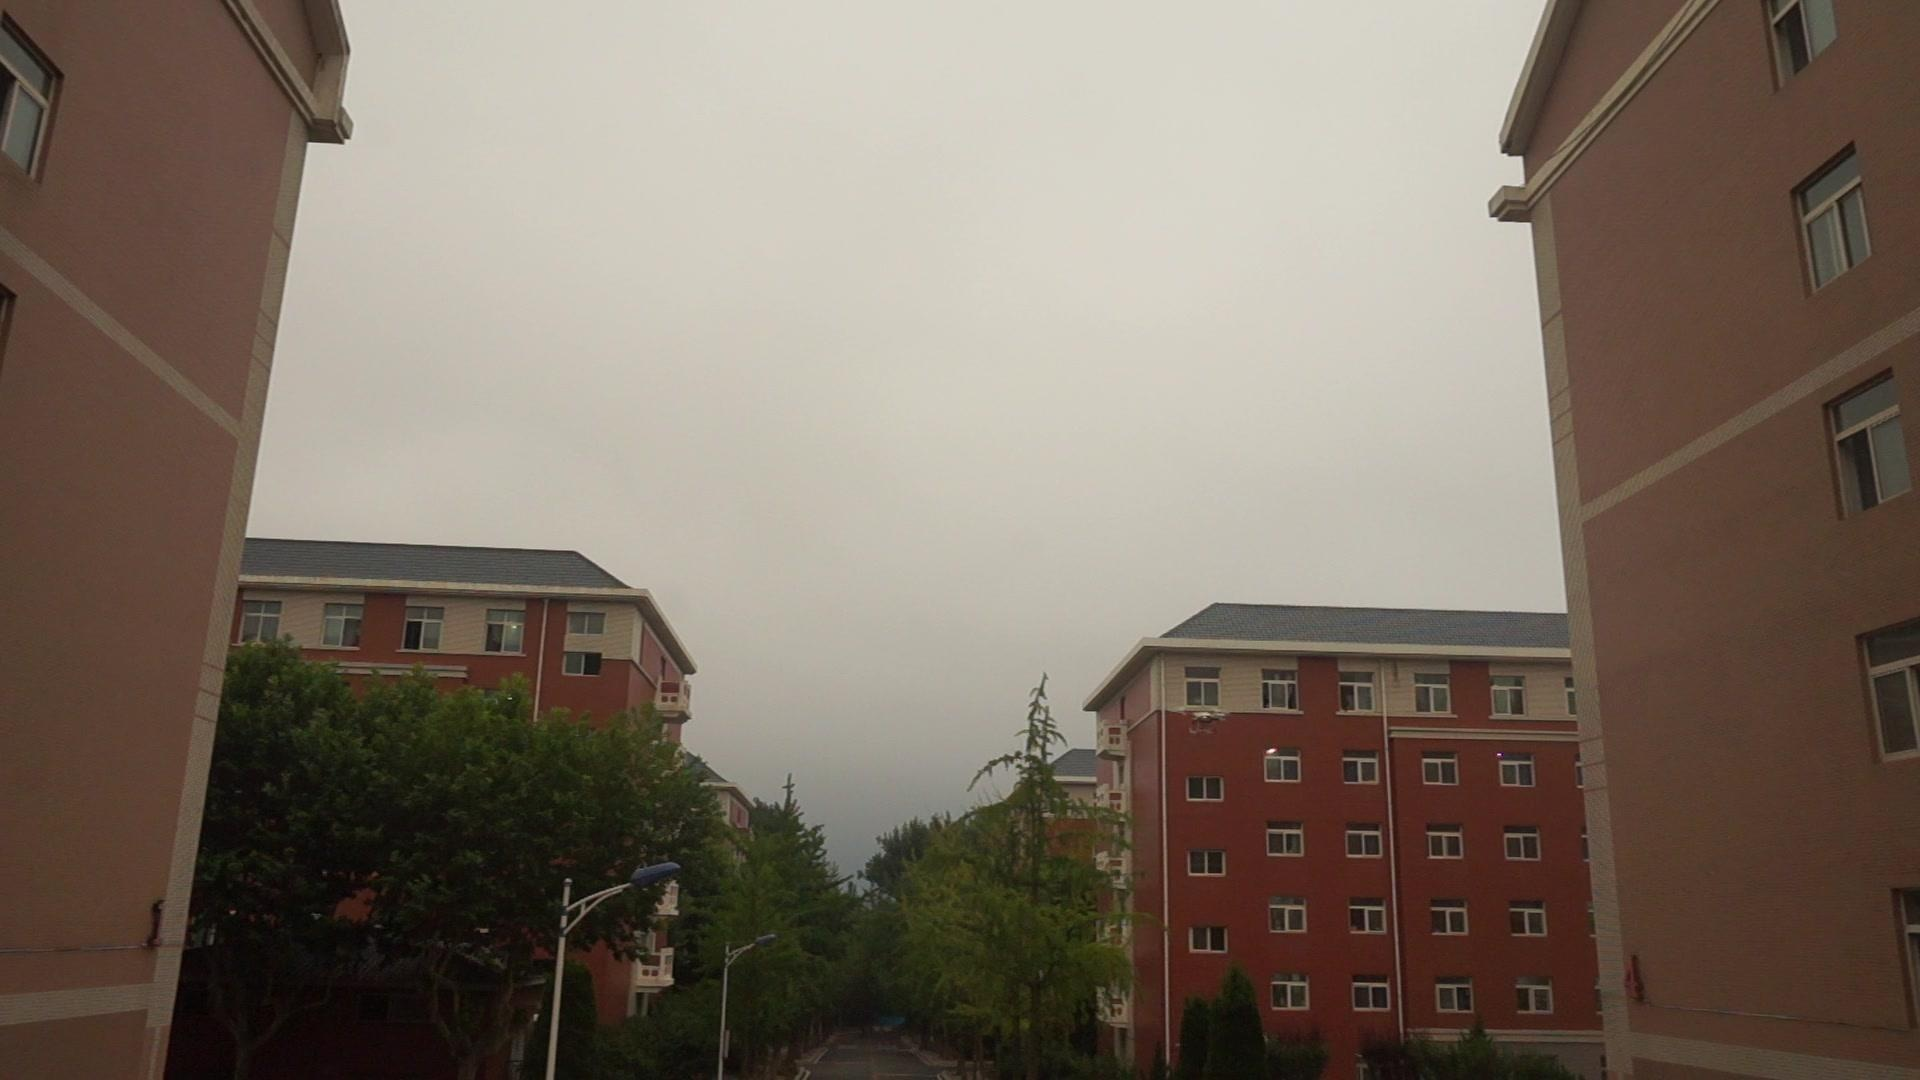UAV: (1171, 709, 1233, 735)
